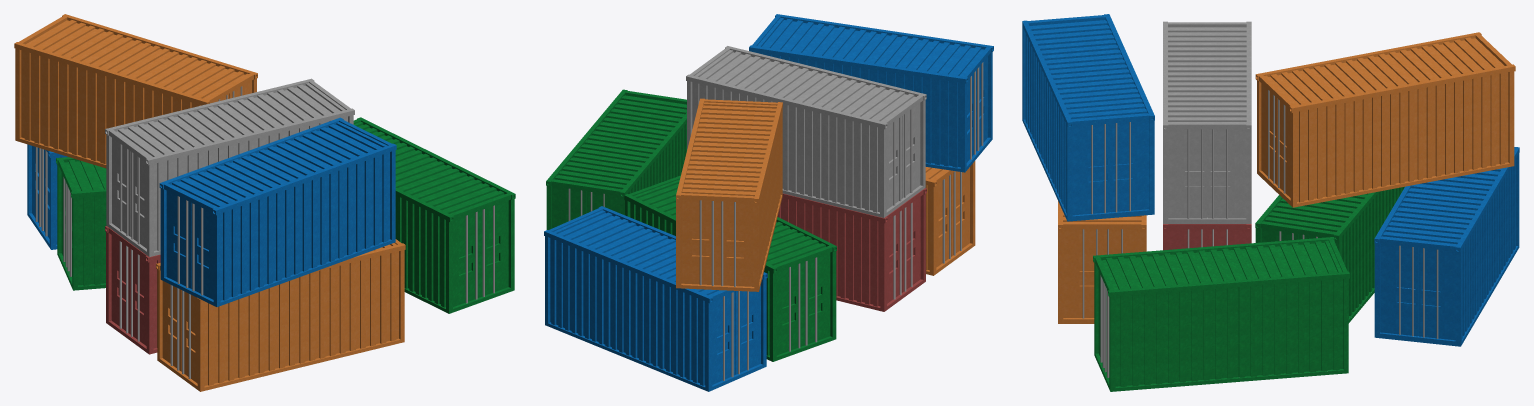
Rendered from logistics2.glb.
3 renders of one model, left to right at view 1: azimuth 30°, elevation 25°; view 2: azimuth 150°, elevation 25°; view 3: azimuth 270°, elevation 25°, orthographic. The views are drawn at different scales.
Parts seen in each view (by area): view 1: Material2 (×7); view 2: Material2 (×7); view 3: Material2 (×6).
Boxes of the visible parts, x1=… form: Material2 (×7): x1=14, y1=14, x2=515, y2=391; Material2 (×7): x1=544, y1=14, x2=993, y2=391; Material2 (×6): x1=1022, y1=14, x2=1519, y2=391.
Bounding box in the file's own units: 331 × 173 × 390.
Materials: 7 (5 with a texture image).
